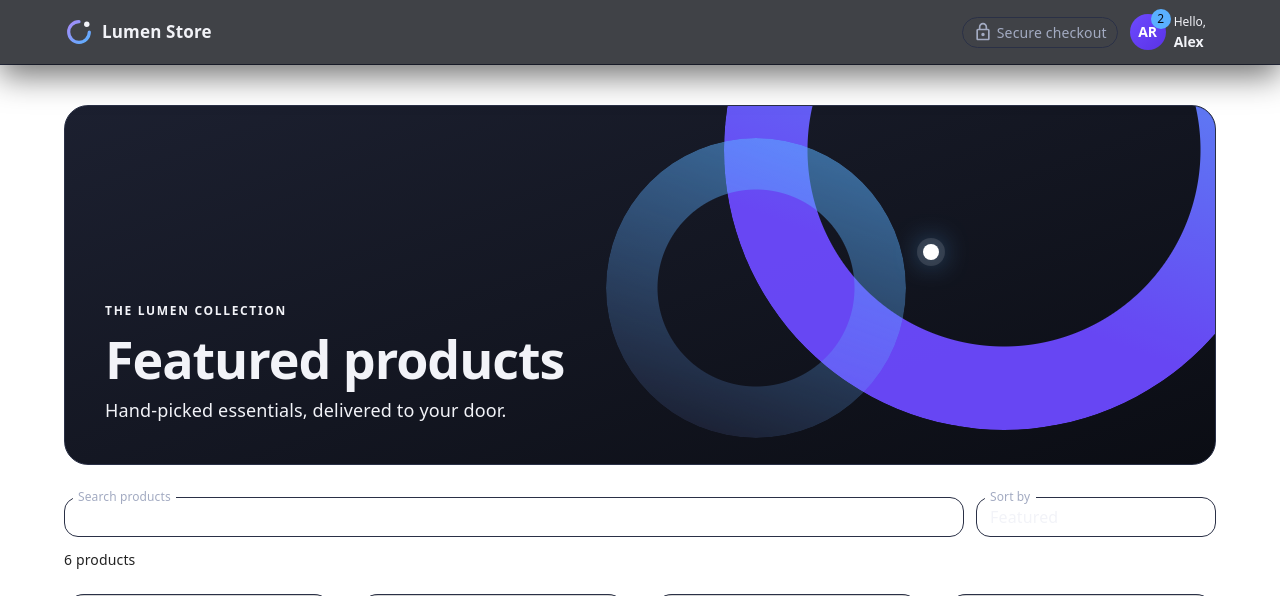
Test: account menu › AC-1: the header shows the signed-in customer and where their account leads
Click the button with aria-label "Account: Alex Rivera": [1171, 32] box [1126,8,1216,56]
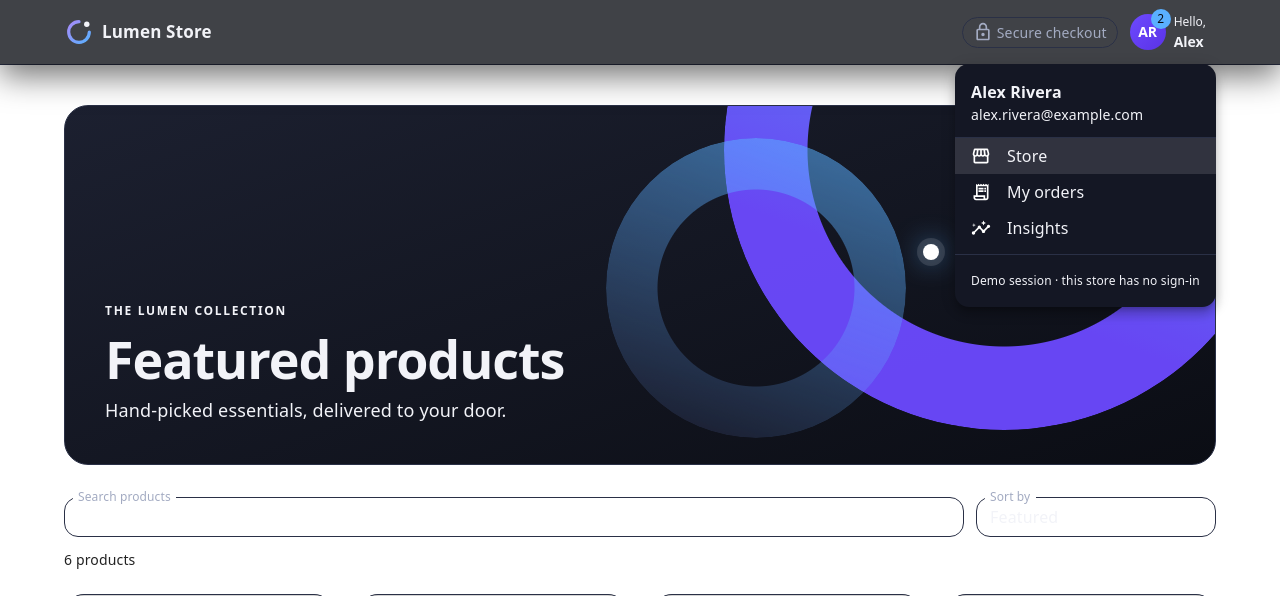
Now the text "alex.rivera@example.com" is shown, box [971,105,1143,124]
Now the menu items read "Store", "My orders", "Insights", in this order, box [955,138,1216,174]; [971,181,1084,203]; [971,217,1068,239]
Now the text "Demo session · this store has no sign-in" is shown, box [971,272,1200,289]
